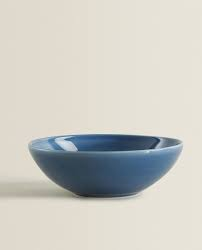bowl: (26, 129, 189, 204)
